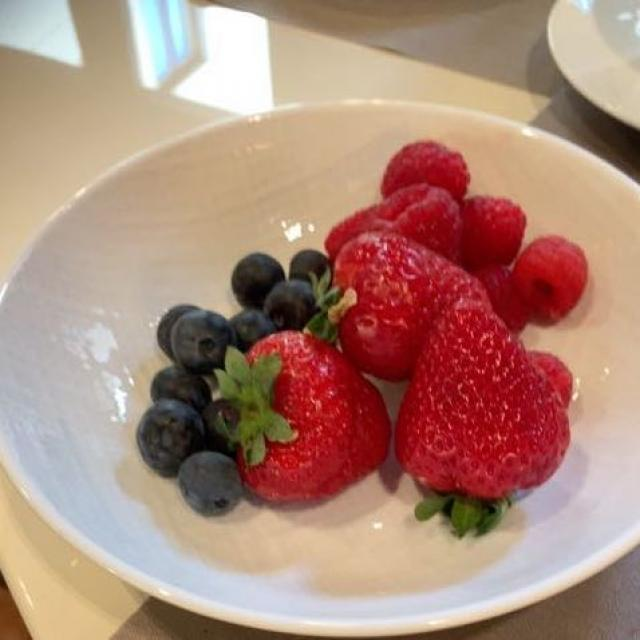blueberries: (106, 242, 343, 538)
raspberries: (311, 129, 616, 326)
strawberries: (207, 219, 598, 530)
